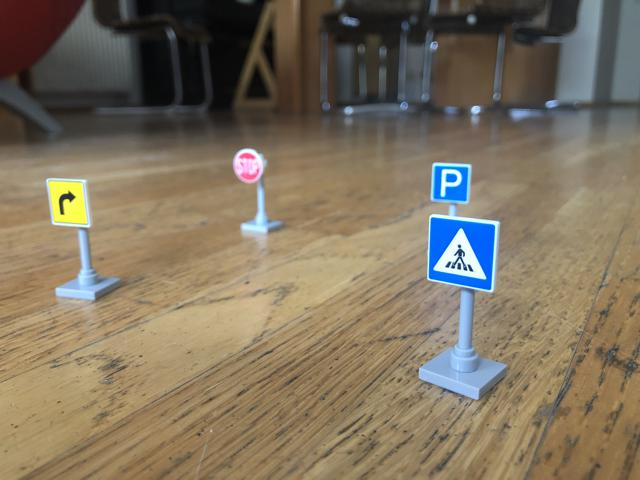fahrtrichtung rechts: (45, 175, 96, 229)
fußgängerüberweg: (423, 214, 501, 293)
parken: (426, 162, 475, 202)
stop: (235, 149, 265, 183)
